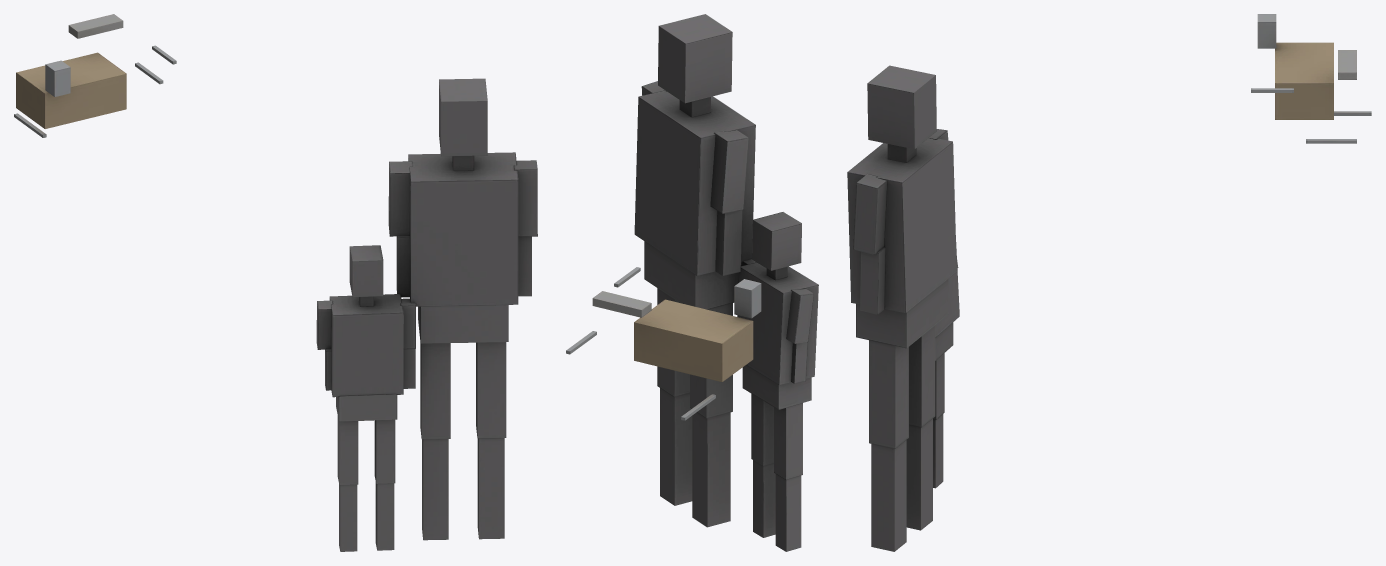
File: coda_toolbox.glb
3 renders of one model, left to right at view 1: azimuth 30°, elevation 25°; view 2: azimuth 150°, elevation 25°; view 3: azimuth 270°, elevation 25°, orthographic. The views are drawn at different scales.
Visible parts, largest first — view 1: CH_coda_toolbox_static, coda_toolbox_toolbox, coda_toolbox_whetstone, coda_toolbox_oil_tin; view 2: CH_coda_toolbox_static, coda_toolbox_toolbox, coda_toolbox_whetstone, coda_toolbox_oil_tin; view 3: CH_coda_toolbox_static, coda_toolbox_toolbox, coda_toolbox_oil_tin.
Boxes of the visible parts, x1,y1,x2,y2 form: CH_coda_toolbox_static: (316,78,537,551); coda_toolbox_toolbox: (16,52,126,128); coda_toolbox_whetstone: (68,14,123,38); coda_toolbox_oil_tin: (45,60,70,96); CH_coda_toolbox_static: (634,14,818,551); coda_toolbox_toolbox: (634,299,753,381); coda_toolbox_whetstone: (592,291,651,317); coda_toolbox_oil_tin: (734,279,761,318); CH_coda_toolbox_static: (847,65,959,551); coda_toolbox_toolbox: (1275,42,1333,119); coda_toolbox_oil_tin: (1257,14,1276,48).
Bounding box in the file's own units: 1.31 × 1.87 × 1.95.
Materials: 1 (1 with a texture image).
